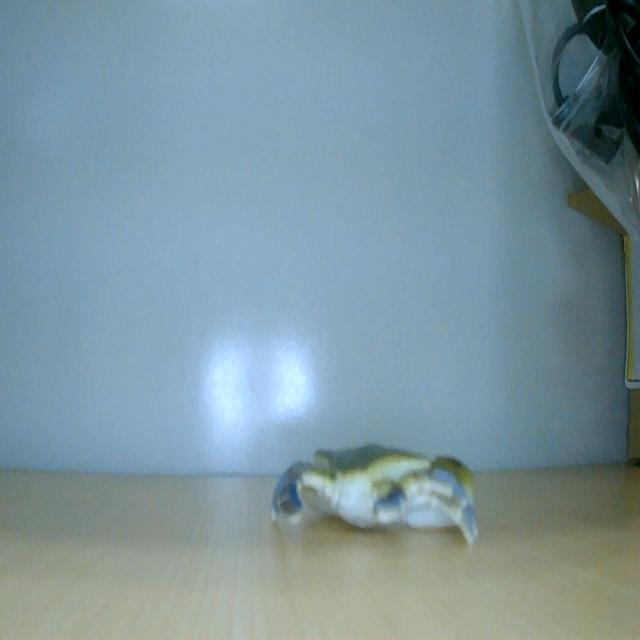crab: (272, 444, 478, 544)
